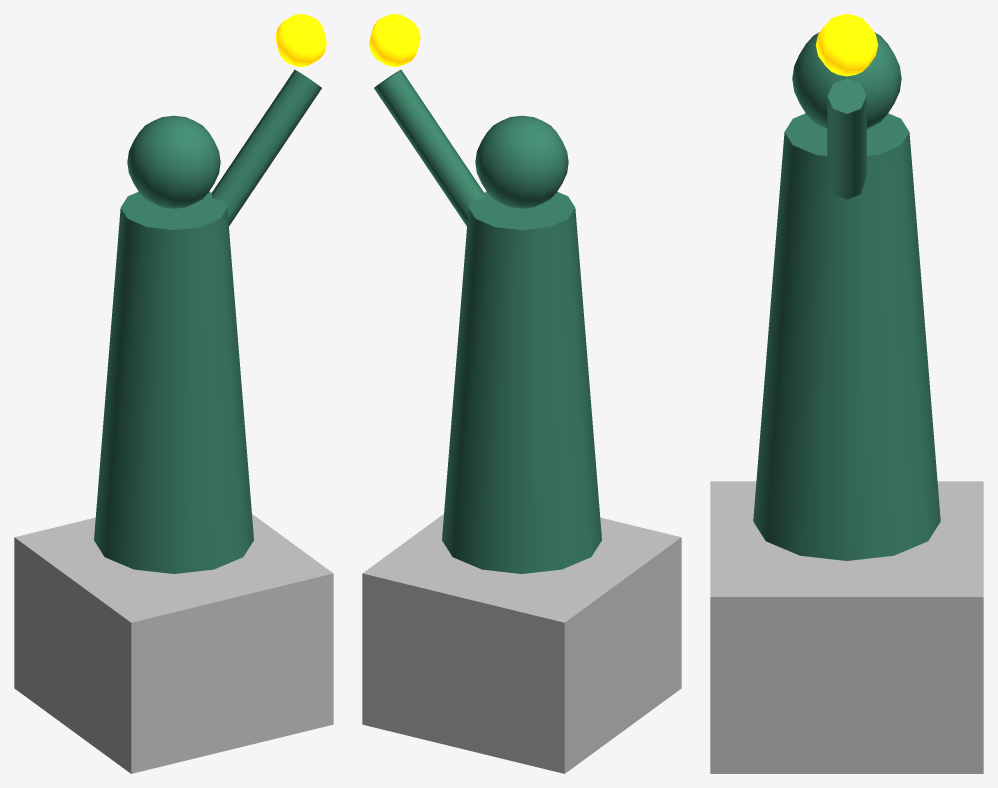
File: liberty.glb
3 renders of one model, left to right at view 1: azimuth 30°, elevation 25°; view 2: azimuth 150°, elevation 25°; view 3: azimuth 270°, elevation 25°, orthographic. The views are drawn at different scales.
Size of the model in its own units: 0.435 by 1.09 by 0.35.
